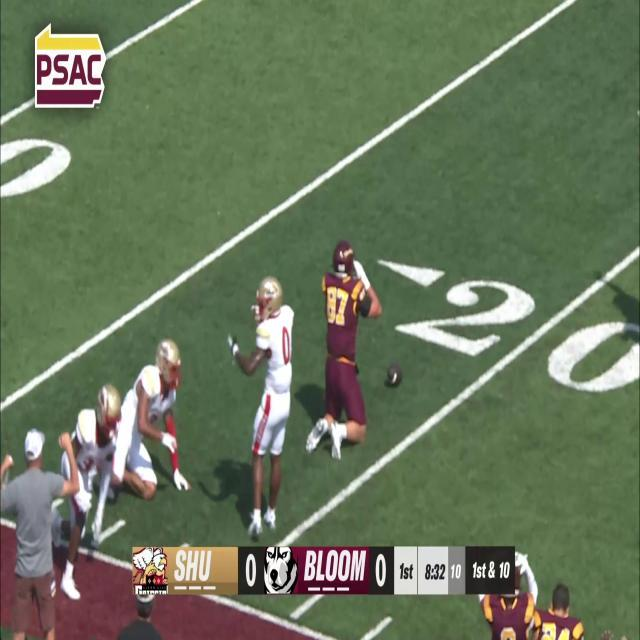football: (384, 364, 402, 386)
